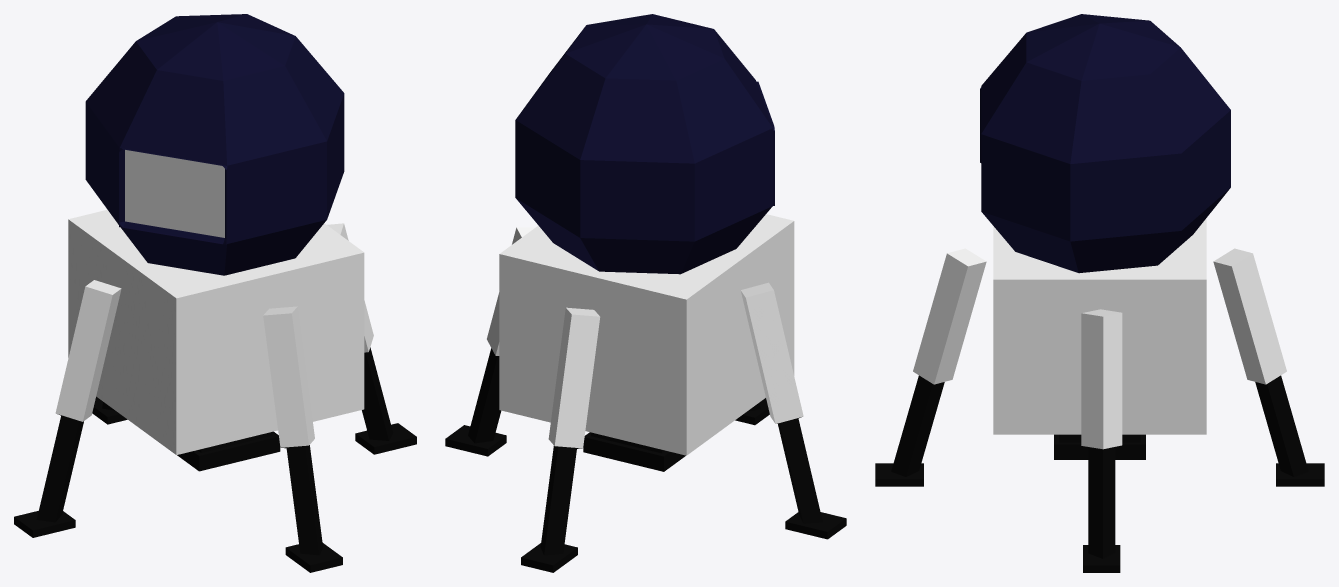
The model's file is SpaceCapsule.fbx.
3 renders of one model, left to right at view 1: azimuth 30°, elevation 25°; view 2: azimuth 150°, elevation 25°; view 3: azimuth 270°, elevation 25°, orthographic.
Visible parts, largest first — view 1: Body, Head; view 2: Body, Head; view 3: Body, Head.
Boxes of the visible parts, x1,y1,x2,y2 form: Body: [14, 209, 416, 572]; Head: [85, 14, 344, 275]; Body: [445, 214, 846, 572]; Head: [515, 14, 774, 274]; Body: [875, 218, 1324, 572]; Head: [980, 14, 1230, 273].
Bounding box in the file's own units: 323 × 372 × 331.
